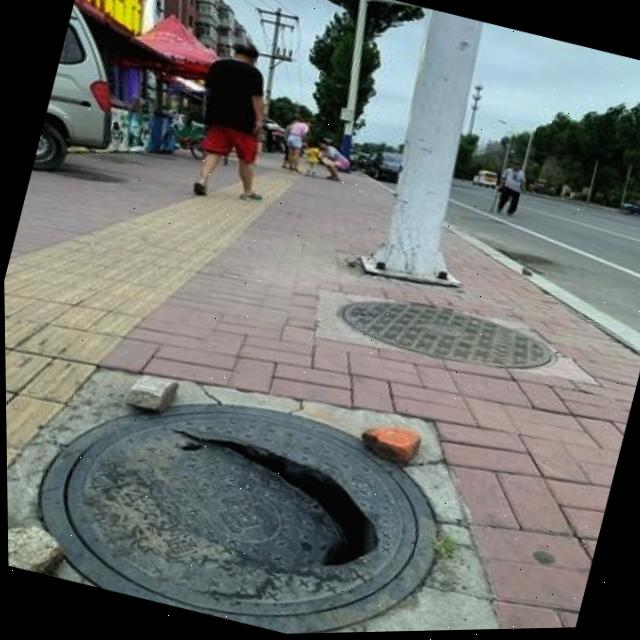manhole: (4, 330, 471, 640)
